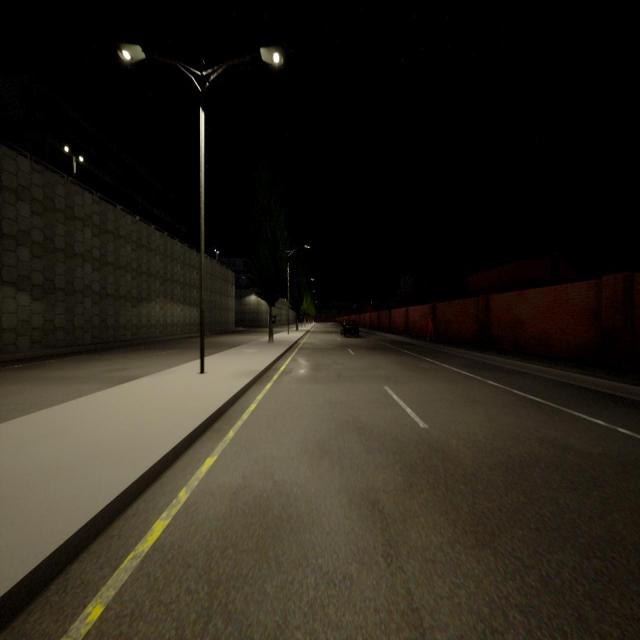Pedestrian: (428, 312, 433, 341)
Vehicle: (341, 321, 359, 337)
